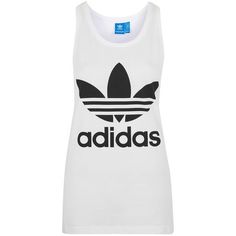adidas Originale: (74, 60, 163, 154)
